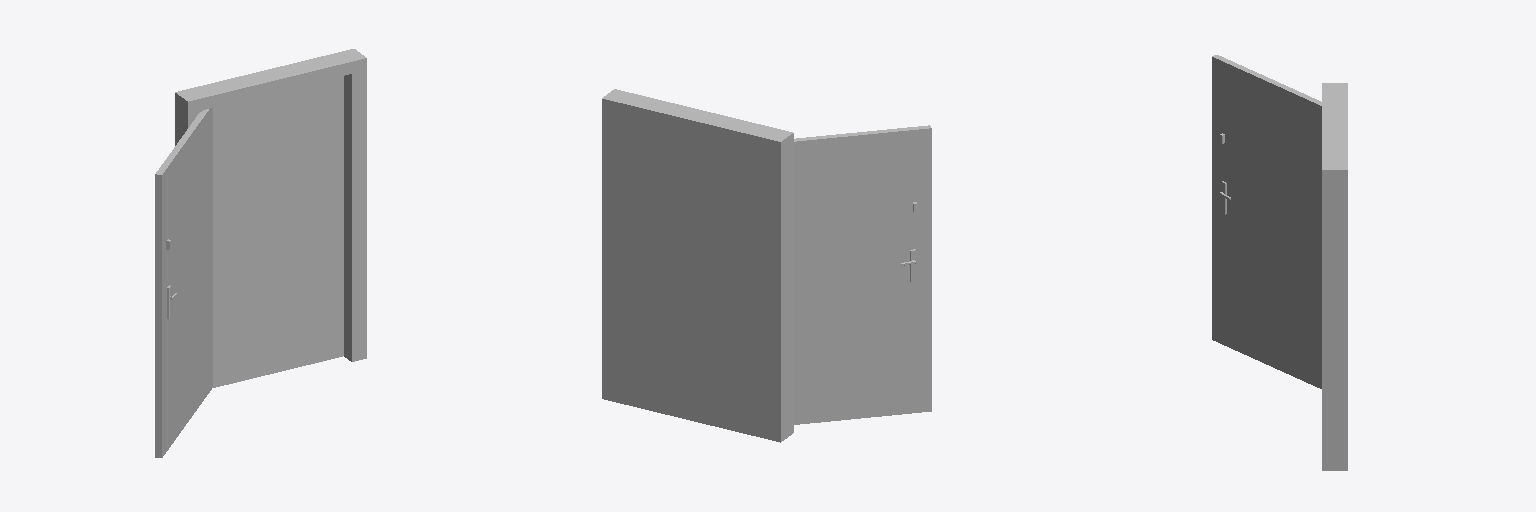
File: ajar.obj
3 views of the same model, side by side, from view 1: azimuth 30°, elevation 25°; view 2: azimuth 150°, elevation 25°; view 3: azimuth 270°, elevation 25° (orthographic).
Visible parts, largest first — view 1: polySurface8; view 2: polySurface8; view 3: polySurface8.
Part boxes in pixels (x1,y1,x2,y2): polySurface8: (155,49,366,457); polySurface8: (602,89,931,442); polySurface8: (1212,55,1347,470).
Bounding box in the file's own units: 25.6 × 27.79 × 11.42.